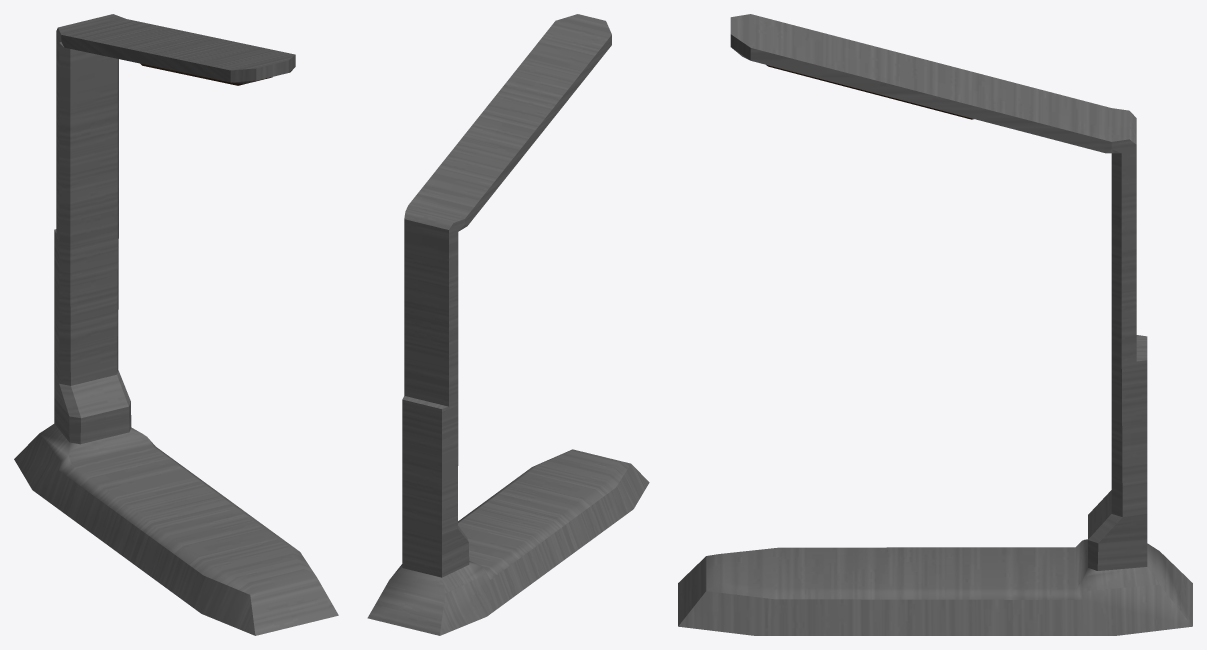
Rendered from table-lamp.glb.
3 renders of one model, left to right at view 1: azimuth 30°, elevation 25°; view 2: azimuth 150°, elevation 25°; view 3: azimuth 270°, elevation 25°, orthographic. The views are drawn at different scales.
Parts seen in each view (by area): view 1: TableLamp; view 2: TableLamp; view 3: TableLamp.
Boxes of the visible parts, <box> form: TableLamp: <box>14,14,338,635</box>; TableLamp: <box>367,14,649,635</box>; TableLamp: <box>678,14,1192,635</box>.
Bounding box in the file's own units: 0.0908 × 0.3951 × 0.3182.
Materials: 2 (2 with a texture image).
